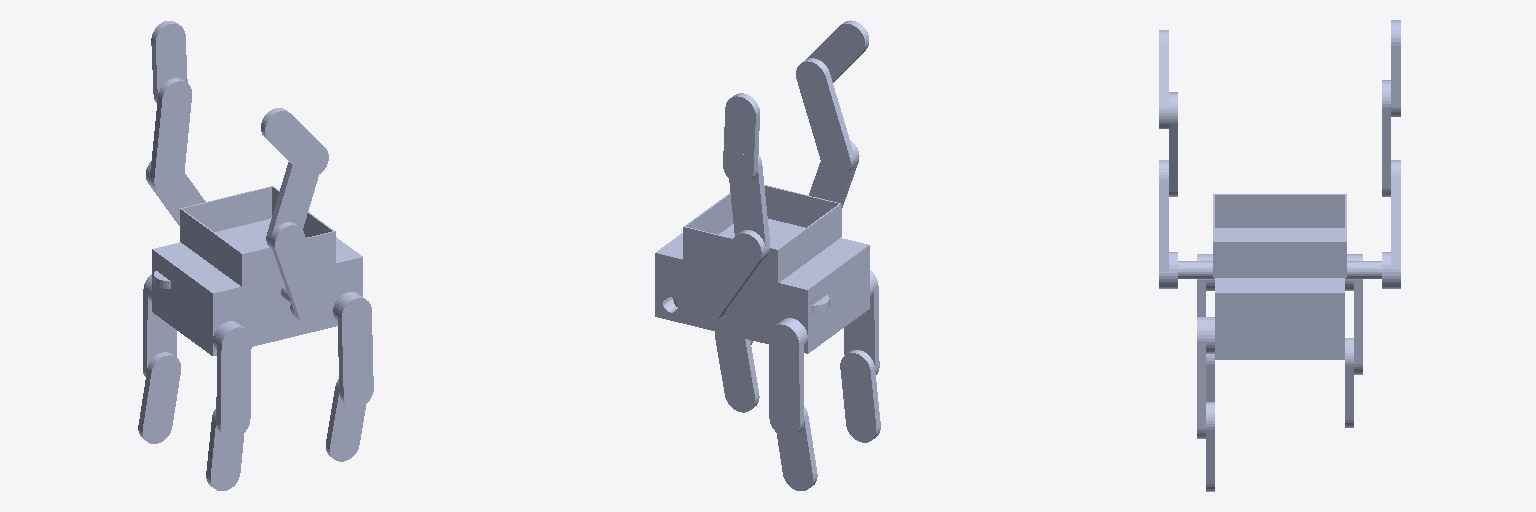
--- Render facts (derived) ---
Views: 3 orthographic renders of the robot side by side, from view 1: azimuth 30°, elevation 25°; view 2: azimuth 150°, elevation 25°; view 3: azimuth 270°, elevation 25°.
Robot: Project2_Assembly1 — 37 links, 36 joints (14 continuous, 22 fixed); root link dummy_link; default pose: all joints at 0.
Visible links, largest first — view 1: base_link, platform_link, right_arm_link5, right_arm_link3, left_front_hip_link1, left_rear_hip_link1, right_front_knee_link1, left_arm_link3, left_rear_knee_link1, left_front_knee_link1, left_arm_link1, left_arm_link5 (+12 smaller); view 2: base_link, platform_link, left_arm_link3, right_arm_link5, right_front_hip_link1, left_rear_knee_link1, left_front_knee_link1, right_arm_link3, left_arm_link5, right_arm_link1, right_front_knee_link1, left_front_hip_link1 (+9 smaller); view 3: platform_link, base_link, right_arm_link, left_arm_link, left_arm_link1, right_arm_link1, right_arm_link5, left_rear_hip_link1, left_arm_link5, right_front_hip_link1, right_arm_link3, left_arm_link3 (+3 smaller).
Boxes of the visible links, x1,y1,x2,y2 form: base_link: (152, 237, 362, 355); platform_link: (180, 186, 335, 286); right_arm_link5: (151, 21, 187, 97); right_arm_link3: (150, 97, 191, 178); left_front_hip_link1: (216, 341, 251, 425); left_rear_hip_link1: (337, 314, 373, 395); right_front_knee_link1: (138, 370, 180, 443); left_arm_link3: (267, 162, 318, 235); left_rear_knee_link1: (326, 387, 365, 461); left_front_knee_link1: (206, 418, 243, 490); left_arm_link1: (272, 237, 327, 317); left_arm_link5: (261, 108, 323, 172); base_link: (655, 233, 869, 353); platform_link: (683, 185, 841, 283); left_arm_link3: (798, 73, 853, 159); right_arm_link5: (723, 93, 759, 172); right_front_hip_link1: (769, 341, 803, 423); left_rear_knee_link1: (715, 339, 759, 412); left_front_knee_link1: (840, 369, 880, 442); right_arm_link3: (729, 164, 769, 247); left_arm_link5: (806, 20, 868, 82); right_arm_link1: (693, 239, 762, 316); right_front_knee_link1: (777, 416, 817, 490); left_front_hip_link1: (844, 286, 879, 368); platform_link: (1213, 194, 1346, 277); base_link: (1215, 278, 1344, 359); right_arm_link: (1345, 252, 1400, 288); left_arm_link: (1159, 252, 1214, 288); left_arm_link1: (1159, 180, 1168, 271); right_arm_link1: (1391, 176, 1400, 267); right_arm_link5: (1391, 20, 1400, 105); left_rear_hip_link1: (1197, 343, 1205, 427); left_arm_link5: (1159, 30, 1168, 105); right_front_hip_link1: (1354, 280, 1362, 363); right_arm_link3: (1382, 109, 1390, 187); left_arm_link3: (1169, 124, 1177, 190).
Size in the robot's own frame: 0.2734 by 0.3302 by 0.6388 metres.
36 mesh visuals loaded from 36 distinct referenced files (36 binary STL).

The robot description file, URDF, robot "Project2_Assembly1":
<?xml version="1.0" encoding="utf-8"?>
<!-- This URDF was automatically created by SolidWorks to URDF Exporter! Originally created by Stephen Brawner ([email redacted]) 
     Commit Version: 1.5.1-0-g916b5db  Build Version: 1.5.7152.31018
     For more information, please see http://wiki.ros.org/sw_urdf_exporter -->
<robot
  name="Project2_Assembly1">
  <link
    name="dummy_link">
  </link>
  <joint
    name="dummy_joint"
    type="fixed">
    <parent
      link="dummy_link" />
    <child
      link="base_link" />
  </joint>
  <link
    name="base_link">
    <inertial>
      <origin
        xyz="-0.175748920268411 0.165789407892482 -0.438271405453909"
        rpy="0 0 0" />
      <mass
        value="4.36700755653188" />
      <inertia
        ixx="0.030365726134738"
        ixy="0.00652149162392971"
        ixz="0.00297506888940774"
        iyy="0.0178204642076725"
        iyz="0.000563260489121419"
        izz="0.0284925976105569" />
    </inertial>
    <visual>
      <origin
        xyz="0 0 0"
        rpy="0 0 0" />
      <geometry>
        <mesh
          filename="package://Project2_Assembly/meshes/base_link.STL" />
      </geometry>
      <material
        name="">
        <color
          rgba="0.792156862745098 0.819607843137255 0.933333333333333 1" />
      </material>
    </visual>
    <collision>
      <origin
        xyz="0 0 0"
        rpy="0 0 0" />
      <geometry>
        <mesh
          filename="package://Project2_Assembly/meshes/base_link.STL" />
      </geometry>
    </collision>
  </link>
  <link
    name="platform_link">
    <inertial>
      <origin
        xyz="8.32667268468867E-17 -5.55111512312578E-17 0.00454448000326668"
        rpy="0 0 0" />
      <mass
        value="0.221453327467568" />
      <inertia
        ixx="0.000766812354982266"
        ixy="3.04931861011548E-20"
        ixz="-1.01813360259967E-18"
        iyy="0.00100112681592481"
        iyz="1.21972744404619E-18"
        izz="0.00157928891231331" />
    </inertial>
    <visual>
      <origin
        xyz="0 0 0"
        rpy="0 0 0" />
      <geometry>
        <mesh
          filename="package://Project2_Assembly/meshes/platform_link.STL" />
      </geometry>
      <material
        name="">
        <color
          rgba="0.792156862745098 0.819607843137255 0.933333333333333 1" />
      </material>
    </visual>
    <collision>
      <origin
        xyz="0 0 0"
        rpy="0 0 0" />
      <geometry>
        <mesh
          filename="package://Project2_Assembly/meshes/platform_link.STL" />
      </geometry>
    </collision>
  </link>
  <joint
    name="platform_joint"
    type="fixed">
    <origin
      xyz="0 0 0"
      rpy="0 0 1.5707963267949" />
    <parent
      link="base_link" />
    <child
      link="platform_link" />
    <axis
      xyz="0 0 0" />
  </joint>
  <link
    name="left_arm_link">
    <inertial>
      <origin
        xyz="5.55111512312578E-17 -1.11022302462516E-16 0.0269203616457798"
        rpy="0 0 0" />
      <mass
        value="0.0772222198144585" />
      <inertia
        ixx="4.25551704324029E-05"
        ixy="1.6940658945086E-21"
        ixz="-2.5410988417629E-20"
        iyy="4.25551704324029E-05"
        iyz="9.95396061921811E-20"
        izz="1.8682757750811E-05" />
    </inertial>
    <visual>
      <origin
        xyz="0 0 0"
        rpy="0 0 0" />
      <geometry>
        <mesh
          filename="package://Project2_Assembly/meshes/left_arm_link.STL" />
      </geometry>
      <material
        name="">
        <color
          rgba="0.792156862745098 0.819607843137255 0.933333333333333 1" />
      </material>
    </visual>
    <collision>
      <origin
        xyz="0 0 0"
        rpy="0 0 0" />
      <geometry>
        <mesh
          filename="package://Project2_Assembly/meshes/left_arm_link.STL" />
      </geometry>
    </collision>
  </link>
  <joint
    name="left_arm_joint"
    type="fixed">
    <origin
      xyz="0 -0.112779638354221 -0.0279400000000001"
      rpy="-1.57079632679486 1.49005517178331 -3.14159265358976" />
    <parent
      link="base_link" />
    <child
      link="left_arm_link" />
    <axis
      xyz="0 0 1" />
  </joint>
  <link
    name="left_arm_link1">
    <inertial>
      <origin
        xyz="0.0634999999999999 -7.76462227847219E-14 0.0040296383542201"
        rpy="0 0 0" />
      <mass
        value="0.0561945800618472" />
      <inertia
        ixx="1.42240417239566E-05"
        ixy="2.92460359654413E-17"
        ixz="-4.70103285726137E-20"
        iyy="3.81793048154064E-05"
        iyz="8.470329472543E-21"
        izz="5.08927425696672E-05" />
    </inertial>
    <visual>
      <origin
        xyz="0 0 0"
        rpy="0 0 0" />
      <geometry>
        <mesh
          filename="package://Project2_Assembly/meshes/left_arm_link1.STL" />
      </geometry>
      <material
        name="">
        <color
          rgba="0.792156862745098 0.819607843137255 0.933333333333333 1" />
      </material>
    </visual>
    <collision>
      <origin
        xyz="0 0 0"
        rpy="0 0 0" />
      <geometry>
        <mesh
          filename="package://Project2_Assembly/meshes/left_arm_link1.STL" />
      </geometry>
    </collision>
  </link>
  <joint
    name="left_arm_joint1"
    type="continuous">
    <origin
      xyz="0 0 0.0499999999999999"
      rpy="3.14159265358979 0 -2.73383166744153" />
    <parent
      link="left_arm_link" />
    <child
      link="left_arm_link1" />
    <axis
      xyz="0 0 1" />
  </joint>
  <link
    name="left_arm_link2">
    <inertial>
      <origin
        xyz="-1.52655665885959E-15 2.4980018054066E-16 -0.0103796383542208"
        rpy="0 0 0" />
      <mass
        value="0.0514814798763058" />
      <inertia
        ixx="1.10712638523325E-05"
        ixy="4.76456032830544E-22"
        ixz="-1.48230765769503E-20"
        iyy="1.10712638523325E-05"
        iyz="1.47171974585435E-20"
        izz="1.66068957784987E-05" />
    </inertial>
    <visual>
      <origin
        xyz="0 0 0"
        rpy="0 0 0" />
      <geometry>
        <mesh
          filename="package://Project2_Assembly/meshes/left_arm_link2.STL" />
      </geometry>
      <material
        name="">
        <color
          rgba="0.792156862745098 0.819607843137255 0.933333333333333 1" />
      </material>
    </visual>
    <collision>
      <origin
        xyz="0 0 0"
        rpy="0 0 0" />
      <geometry>
        <mesh
          filename="package://Project2_Assembly/meshes/left_arm_link2.STL" />
      </geometry>
    </collision>
  </link>
  <joint
    name="left_arm_joint2"
    type="fixed">
    <origin
      xyz="0.127 0 0"
      rpy="-3.14159265358979 0 0.141401224368281" />
    <parent
      link="left_arm_link1" />
    <child
      link="left_arm_link2" />
    <axis
      xyz="0 0 1" />
  </joint>
  <link
    name="left_arm_link3">
    <inertial>
      <origin
        xyz="0.0635000000000196 6.46704911844154E-15 0.00445605177225594"
        rpy="0 0 0" />
      <mass
        value="0.0561945800618472" />
      <inertia
        ixx="1.42240417239566E-05"
        ixy="4.89690922631392E-20"
        ixz="1.63053842346453E-19"
        iyy="3.81793048154064E-05"
        iyz="-3.87517573368842E-20"
        izz="5.08927425696671E-05" />
    </inertial>
    <visual>
      <origin
        xyz="0 0 0"
        rpy="0 0 0" />
      <geometry>
        <mesh
          filename="package://Project2_Assembly/meshes/left_arm_link3.STL" />
      </geometry>
      <material
        name="">
        <color
          rgba="0.792156862745098 0.819607843137255 0.933333333333333 1" />
      </material>
    </visual>
    <collision>
      <origin
        xyz="0 0 0"
        rpy="0 0 0" />
      <geometry>
        <mesh
          filename="package://Project2_Assembly/meshes/left_arm_link3.STL" />
      </geometry>
    </collision>
  </link>
  <joint
    name="left_arm_joint3"
    type="continuous">
    <origin
      xyz="0 0 -0.0122735865819643"
      rpy="3.14159265358979 0 -0.51044745877229" />
    <parent
      link="left_arm_link2" />
    <child
      link="left_arm_link3" />
    <axis
      xyz="0 0 1" />
  </joint>
  <link
    name="left_arm_link4">
    <inertial>
      <origin
        xyz="1.13797860024079E-14 1.6903145549918E-14 -0.00189394822774391"
        rpy="0 0 0" />
      <mass
        value="0.0514814798763058" />
      <inertia
        ixx="1.10712638523325E-05"
        ixy="2.11758236813575E-22"
        ixz="-3.3881317890172E-21"
        iyy="1.10712638523325E-05"
        iyz="1.05879118406788E-21"
        izz="1.66068957784987E-05" />
    </inertial>
    <visual>
      <origin
        xyz="0 0 0"
        rpy="0 0 0" />
      <geometry>
        <mesh
          filename="package://Project2_Assembly/meshes/left_arm_link4.STL" />
      </geometry>
      <material
        name="">
        <color
          rgba="0.792156862745098 0.819607843137255 0.933333333333333 1" />
      </material>
    </visual>
    <collision>
      <origin
        xyz="0 0 0"
        rpy="0 0 0" />
      <geometry>
        <mesh
          filename="package://Project2_Assembly/meshes/left_arm_link4.STL" />
      </geometry>
    </collision>
  </link>
  <joint
    name="left_arm_joint4"
    type="fixed">
    <origin
      xyz="0.12700000000002 0 0"
      rpy="0 0 2.25512297298652" />
    <parent
      link="left_arm_link3" />
    <child
      link="left_arm_link4" />
    <axis
      xyz="0 0 1" />
  </joint>
  <link
    name="left_arm_link5">
    <inertial>
      <origin
        xyz="-0.0643991133502865 -7.39686090156511E-14 0.00824394822774355"
        rpy="0 0 0" />
      <mass
        value="0.0573547240000001" />
      <inertia
        ixx="1.31052198647767E-05"
        ixy="-2.4546591294956E-17"
        ixz="1.35737029797502E-19"
        iyy="4.03881189381033E-05"
        iyz="4.2351647362715E-21"
        izz="5.19515482305533E-05" />
    </inertial>
    <visual>
      <origin
        xyz="0 0 0"
        rpy="0 0 0" />
      <geometry>
        <mesh
          filename="package://Project2_Assembly/meshes/left_arm_link5.STL" />
      </geometry>
      <material
        name="">
        <color
          rgba="0.792156862745098 0.819607843137255 0.933333333333333 1" />
      </material>
    </visual>
    <collision>
      <origin
        xyz="0 0 0"
        rpy="0 0 0" />
      <geometry>
        <mesh
          filename="package://Project2_Assembly/meshes/left_arm_link5.STL" />
      </geometry>
    </collision>
  </link>
  <joint
    name="left_arm_joint5"
    type="continuous">
    <origin
      xyz="0 0 0"
      rpy="3.14159265358979 0 -0.136200538453035" />
    <parent
      link="left_arm_link4" />
    <child
      link="left_arm_link5" />
    <axis
      xyz="0 0 1" />
  </joint>
  <link
    name="left_arm_dummy_link">
    <inertial>
      <origin
        xyz="0.0245008866497048 0.0254 0.00635000000000008"
        rpy="0 0 0" />
      <mass
        value="0.0573547240000001" />
      <inertia
        ixx="1.31052198647767E-05"
        ixy="5.11396141904784E-20"
        ixz="5.9292306307801E-20"
        iyy="4.03881189381033E-05"
        iyz="-1.77876918923403E-20"
        izz="5.19515482305533E-05" />
    </inertial>
    <visual>
      <origin
        xyz="0 0 0"
        rpy="0 0 0" />
      <geometry>
        <mesh
          filename="package://Project2_Assembly/meshes/left_arm_dummy_link.STL" />
      </geometry>
      <material
        name="">
        <color
          rgba="0.792156862745098 0.819607843137255 0.933333333333333 1" />
      </material>
    </visual>
    <collision>
      <origin
        xyz="0 0 0"
        rpy="0 0 0" />
      <geometry>
        <mesh
          filename="package://Project2_Assembly/meshes/left_arm_dummy_link.STL" />
      </geometry>
    </collision>
  </link>
  <joint
    name="left_arm_dummy_joint"
    type="fixed">
    <origin
      xyz="-0.0888999999999685 -0.0254000000000961 0.00189394822774358"
      rpy="0 0 0" />
    <parent
      link="left_arm_link5" />
    <child
      link="left_arm_dummy_link" />
    <axis
      xyz="0 0 0" />
  </joint>
  <link
    name="right_arm_link">
    <inertial>
      <origin
        xyz="5.55111512312578E-17 2.08166817117217E-15 0.0270180534713057"
        rpy="0 0 0" />
      <mass
        value="0.0772222198144587" />
      <inertia
        ixx="4.2555170432403E-05"
        ixy="-1.85288457211878E-22"
        ixz="6.22569216231911E-20"
        iyy="4.2555170432403E-05"
        iyz="-4.31457407507659E-20"
        izz="1.86827577508111E-05" />
    </inertial>
    <visual>
      <origin
        xyz="0 0 0"
        rpy="0 0 0" />
      <geometry>
        <mesh
          filename="package://Project2_Assembly/meshes/right_arm_link.STL" />
      </geometry>
      <material
        name="">
        <color
          rgba="0.792156862745098 0.819607843137255 0.933333333333333 1" />
      </material>
    </visual>
    <collision>
      <origin
        xyz="0 0 0"
        rpy="0 0 0" />
      <geometry>
        <mesh
          filename="package://Project2_Assembly/meshes/right_arm_link.STL" />
      </geometry>
    </collision>
  </link>
  <joint
    name="right_arm_joint"
    type="fixed">
    <origin
      xyz="0 0.112681946528693 -0.0279400000000012"
      rpy="1.57079632679492 1.49631531067135 -3.14159265358978" />
    <parent
      link="base_link" />
    <child
      link="right_arm_link" />
    <axis
      xyz="0 0 1" />
  </joint>
  <link
    name="right_arm_link1">
    <inertial>
      <origin
        xyz="0.0635000000000006 1.97064586870965E-15 0.00190156102875016"
        rpy="0 0 0" />
      <mass
        value="0.0561945800618471" />
      <inertia
        ixx="1.42240417239566E-05"
        ixy="2.35051642863068E-20"
        ixz="-3.0916702574782E-20"
        iyy="3.81793048154063E-05"
        iyz="-1.35525271560688E-20"
        izz="5.08927425696671E-05" />
    </inertial>
    <visual>
      <origin
        xyz="0 0 0"
        rpy="0 0 0" />
      <geometry>
        <mesh
          filename="package://Project2_Assembly/meshes/right_arm_link1.STL" />
      </geometry>
      <material
        name="">
        <color
          rgba="0.792156862745098 0.819607843137255 0.933333333333333 1" />
      </material>
    </visual>
    <collision>
      <origin
        xyz="0 0 0"
        rpy="0 0 0" />
      <geometry>
        <mesh
          filename="package://Project2_Assembly/meshes/right_arm_link1.STL" />
      </geometry>
    </collision>
  </link>
  <joint
    name="right_arm_joint1"
    type="continuous">
    <origin
      xyz="0 0 0.0441664924425549"
      rpy="0 0 2.49526943677936" />
    <parent
      link="right_arm_link" />
    <child
      link="right_arm_link1" />
    <axis
      xyz="0 0 1" />
  </joint>
  <link
    name="right_arm_link2">
    <inertial>
      <origin
        xyz="-2.77555756156289E-17 -2.77555756156289E-17 -0.00444843897124922"
        rpy="0 0 0" />
      <mass
        value="0.0514814798763058" />
      <inertia
        ixx="1.10712638523325E-05"
        ixy="-1.00150892664858E-21"
        ixz="-3.93158945146454E-21"
        iyy="1.10712638523325E-05"
        iyz="-5.0821976835258E-21"
        izz="1.66068957784987E-05" />
    </inertial>
    <visual>
      <origin
        xyz="0 0 0"
        rpy="0 0 0" />
      <geometry>
        <mesh
          filename="package://Project2_Assembly/meshes/right_arm_link2.STL" />
      </geometry>
      <material
        name="">
        <color
          rgba="0.792156862745098 0.819607843137255 0.933333333333333 1" />
      </material>
    </visual>
    <collision>
      <origin
        xyz="0 0 0"
        rpy="0 0 0" />
      <geometry>
        <mesh
          filename="package://Project2_Assembly/meshes/right_arm_link2.STL" />
      </geometry>
    </collision>
  </link>
  <joint
    name="right_arm_joint2"
    type="fixed">
    <origin
      xyz="0.127 0 0"
      rpy="0 0 2.2545" />
    <parent
      link="right_arm_link1" />
    <child
      link="right_arm_link2" />
    <axis
      xyz="0 0 1" />
  </joint>
  <link
    name="right_arm_link3">
    <inertial>
      <origin
        xyz="0.0635000000000153 1.44606548957427E-14 -0.0107984389712492"
        rpy="0 0 0" />
      <mass
        value="0.056194580061847" />
      <inertia
        ixx="1.42240417239566E-05"
        ixy="-1.42010367563104E-19"
        ixz="-3.81164826264435E-21"
        iyy="3.81793048154062E-05"
        iyz="-1.84494363823827E-20"
        izz="5.08927425696669E-05" />
    </inertial>
    <visual>
      <origin
        xyz="0 0 0"
        rpy="0 0 0" />
      <geometry>
        <mesh
          filename="package://Project2_Assembly/meshes/right_arm_link3.STL" />
      </geometry>
      <material
        name="">
        <color
          rgba="0.792156862745098 0.819607843137255 0.933333333333333 1" />
      </material>
    </visual>
    <collision>
      <origin
        xyz="0 0 0"
        rpy="0 0 0" />
      <geometry>
        <mesh
          filename="package://Project2_Assembly/meshes/right_arm_link3.STL" />
      </geometry>
    </collision>
  </link>
  <joint
    name="right_arm_joint3"
    type="continuous">
    <origin
      xyz="0 0 0"
      rpy="0 0 -1.57576453791578" />
    <parent
      link="right_arm_link2" />
    <child
      link="right_arm_link3" />
    <axis
      xyz="0 0 1" />
  </joint>
  <link
    name="right_arm_link4">
    <inertial>
      <origin
        xyz="-1.15740750317173E-14 -9.99200722162641E-15 0.00444843897124952"
        rpy="0 0 0" />
      <mass
        value="0.0514814798763058" />
      <inertia
        ixx="1.10712638523325E-05"
        ixy="-4.2351647362715E-22"
        ixz="2.96461531539005E-21"
        iyy="1.10712638523325E-05"
        iyz="-4.2351647362715E-21"
        izz="1.66068957784987E-05" />
    </inertial>
    <visual>
      <origin
        xyz="0 0 0"
        rpy="0 0 0" />
      <geometry>
        <mesh
          filename="package://Project2_Assembly/meshes/right_arm_link4.STL" />
      </geometry>
      <material
        name="">
        <color
          rgba="0.792156862745098 0.819607843137255 0.933333333333333 1" />
      </material>
    </visual>
    <collision>
      <origin
        xyz="0 0 0"
        rpy="0 0 0" />
      <geometry>
        <mesh
          filename="package://Project2_Assembly/meshes/right_arm_link4.STL" />
      </geometry>
    </collision>
  </link>
  <joint
    name="right_arm_joint4"
    type="fixed">
    <origin
      xyz="0.127000000000015 0 0"
      rpy="3.14159265358979 0 0.791256864324291" />
    <parent
      link="right_arm_link3" />
    <child
      link="right_arm_link4" />
    <axis
      xyz="0 0 1" />
  </joint>
  <link
    name="right_arm_link5">
    <inertial>
      <origin
        xyz="-0.0643991133502805 -1.00697228333502E-13 -0.00190156102875053"
        rpy="0 0 0" />
      <mass
        value="0.057354724" />
      <inertia
        ixx="1.31052198647767E-05"
        ixy="-4.07117651070511E-17"
        ixz="4.31986803099693E-20"
        iyy="4.03881189381032E-05"
        iyz="-1.05879118406788E-21"
        izz="5.19515482305532E-05" />
    </inertial>
    <visual>
      <origin
        xyz="0 0 0"
        rpy="0 0 0" />
      <geometry>
        <mesh
          filename="package://Project2_Assembly/meshes/right_arm_link5.STL" />
      </geometry>
      <material
        name="">
        <color
          rgba="0.792156862745098 0.819607843137255 0.933333333333333 1" />
      </material>
    </visual>
    <collision>
      <origin
        xyz="0 0 0"
        rpy="0 0 0" />
      <geometry>
        <mesh
          filename="package://Project2_Assembly/meshes/right_arm_link5.STL" />
      </geometry>
    </collision>
  </link>
  <joint
    name="right_arm_joint5"
    type="continuous">
    <origin
      xyz="0 0 0"
      rpy="0 0 -2.2001" />
    <parent
      link="right_arm_link4" />
    <child
      link="right_arm_link5" />
    <axis
      xyz="0 0 1" />
  </joint>
  <link
    name="right_arm_dummy_link">
    <inertial>
      <origin
        xyz="0.0245008866497046 0.0253999999999988 0.00634999999999999"
        rpy="0 0 0" />
      <mass
        value="0.057354724" />
      <inertia
        ixx="1.31052198647767E-05"
        ixy="8.99972506457694E-21"
        ixz="1.99052742604761E-20"
        iyy="4.03881189381032E-05"
        iyz="-8.89384594617015E-21"
        izz="5.19515482305532E-05" />
    </inertial>
    <visual>
      <origin
        xyz="0 0 0"
        rpy="0 0 0" />
      <geometry>
        <mesh
          filename="package://Project2_Assembly/meshes/right_arm_dummy_link.STL" />
      </geometry>
      <material
        name="">
        <color
          rgba="0.792156862745098 0.819607843137255 0.933333333333333 1" />
      </material>
    </visual>
    <collision>
      <origin
        xyz="0 0 0"
        rpy="0 0 0" />
      <geometry>
        <mesh
          filename="package://Project2_Assembly/meshes/right_arm_dummy_link.STL" />
      </geometry>
    </collision>
  </link>
  <joint
    name="right_arm_dummy_joint"
    type="fixed">
    <origin
      xyz="-0.0888999999999474 -0.0254000000001373 -0.00825156102875052"
      rpy="0 0 0" />
    <parent
      link="right_arm_link5" />
    <child
      link="right_arm_dummy_link" />
    <axis
      xyz="0 0 0" />
  </joint>
  <link
    name="left_rear_hip_link">
    <inertial>
      <origin
        xyz="0 -2.77555756156289E-17 1.11022302462516E-16"
        rpy="0 0 0" />
      <mass
        value="0.0772222198144587" />
      <inertia
        ixx="4.2555170432403E-05"
        ixy="8.470329472543E-22"
        ixz="2.03287907341032E-20"
        iyy="4.2555170432403E-05"
        iyz="-3.89635155736978E-20"
        izz="1.86827577508111E-05" />
    </inertial>
    <visual>
      <origin
        xyz="0 0 0"
        rpy="0 0 0" />
      <geometry>
        <mesh
          filename="package://Project2_Assembly/meshes/left_rear_hip_link.STL" />
      </geometry>
      <material
        name="">
        <color
          rgba="0.792156862745098 0.819607843137255 0.933333333333333 1" />
      </material>
    </visual>
    <collision>
      <origin
        xyz="0 0 0"
        rpy="0 0 0" />
      <geometry>
        <mesh
          filename="package://Project2_Assembly/meshes/left_rear_hip_link.STL" />
      </geometry>
    </collision>
  </link>
  <joint
    name="left_rear_hip_joint"
    type="fixed">
    <origin
      xyz="0.1016 -0.0889 -0.07874"
      rpy="1.5708 1.3266 0" />
    <parent
      link="base_link" />
    <child
      link="left_rear_hip_link" />
    <axis
      xyz="0 0 0" />
  </joint>
  <link
    name="left_rear_hip_link1">
    <inertial>
      <origin
        xyz="-0.0634999999999989 1.11022302462516E-15 -0.00348570857054564"
        rpy="0 0 0" />
      <mass
        value="0.0561945800618471" />
      <inertia
        ixx="1.42240417239566E-05"
        ixy="-3.08372932359769E-20"
        ixz="1.49501315190384E-19"
        iyy="3.81793048154063E-05"
        iyz="1.33407689192552E-20"
        izz="5.0892742569667E-05" />
    </inertial>
    <visual>
      <origin
        xyz="0 0 0"
        rpy="0 0 0" />
      <geometry>
        <mesh
          filename="package://Project2_Assembly/meshes/left_rear_hip_link1.STL" />
      </geometry>
      <material
        name="">
        <color
          rgba="0.792156862745098 0.819607843137255 0.933333333333333 1" />
      </material>
    </visual>
    <collision>
      <origin
        xyz="0 0 0"
        rpy="0 0 0" />
      <geometry>
        <mesh
          filename="package://Project2_Assembly/meshes/left_rear_hip_link1.STL" />
      </geometry>
    </collision>
  </link>
  <joint
    name="left_rear_hip_joint1"
    type="continuous">
    <origin
      xyz="0 0 0.0155642914294541"
      rpy="-3.14159265358979 0 2.9227694943902" />
    <parent
      link="left_rear_hip_link" />
    <child
      link="left_rear_hip_link1" />
    <axis
      xyz="0 0 1" />
  </joint>
  <link
    name="left_rear_knee_link">
    <inertial>
      <origin
        xyz="5.55111512312578E-17 -1.11022302462516E-16 -0.00286429142945449"
        rpy="0 0 0" />
      <mass
        value="0.0514814798763059" />
      <inertia
        ixx="1.10712638523325E-05"
        ixy="2.11758236813575E-22"
        ixz="-3.0916702574782E-20"
        iyy="1.10712638523325E-05"
        iyz="-1.94817577868489E-20"
        izz="1.66068957784988E-05" />
    </inertial>
    <visual>
      <origin
        xyz="0 0 0"
        rpy="0 0 0" />
      <geometry>
        <mesh
          filename="package://Project2_Assembly/meshes/left_rear_knee_link.STL" />
      </geometry>
      <material
        name="">
        <color
          rgba="0.792156862745098 0.819607843137255 0.933333333333333 1" />
      </material>
    </visual>
    <collision>
      <origin
        xyz="0 0 0"
        rpy="0 0 0" />
      <geometry>
        <mesh
          filename="package://Project2_Assembly/meshes/left_rear_knee_link.STL" />
      </geometry>
    </collision>
  </link>
  <joint
    name="left_rear_knee_joint"
    type="fixed">
    <origin
      xyz="-0.127 0 0"
      rpy="3.14159265358979 0 1.22925344599165" />
    <parent
      link="left_rear_hip_link1" />
    <child
      link="left_rear_knee_link" />
    <axis
      xyz="0 0 1" />
  </joint>
  <link
    name="left_rear_knee_link1">
    <inertial>
      <origin
        xyz="-0.0643991133502946 -3.27515792264421E-15 0.00921429142945451"
        rpy="0 0 0" />
      <mass
        value="0.0573547240000001" />
      <inertia
        ixx="1.31052198647767E-05"
        ixy="-1.33614153473446E-18"
        ixz="-6.01393392550553E-20"
        iyy="4.03881189381034E-05"
        iyz="-6.35274710440725E-22"
        izz="5.19515482305534E-05" />
    </inertial>
    <visual>
      <origin
        xyz="0 0 0"
        rpy="0 0 0" />
      <geometry>
        <mesh
          filename="package://Project2_Assembly/meshes/left_rear_knee_link1.STL" />
      </geometry>
      <material
        name="">
        <color
          rgba="0.792156862745098 0.819607843137255 0.933333333333333 1" />
      </material>
    </visual>
    <collision>
      <origin
        xyz="0 0 0"
        rpy="0 0 0" />
      <geometry>
        <mesh
          filename="package://Project2_Assembly/meshes/left_rear_knee_link1.STL" />
      </geometry>
    </collision>
  </link>
  <joint
    name="left_rear_knee_joint1"
    type="continuous">
    <origin
      xyz="0 0 0"
      rpy="3.14159265358979 0 1.02130634175399" />
    <parent
      link="left_rear_knee_link" />
    <child
      link="left_rear_knee_link1" />
    <axis
      xyz="0 0 1" />
  </joint>
  <link
    name="left_rear_dummy_link">
    <inertial>
      <origin
        xyz="0.0245008866497048 0.0254 0.00635000000000019"
        rpy="0 0 0" />
      <mass
        value="0.0573547240000001" />
      <inertia
        ixx="1.31052198647767E-05"
        ixy="2.45110159111713E-20"
        ixz="-5.9292306307801E-20"
        iyy="4.03881189381034E-05"
        iyz="2.85873619698326E-21"
        izz="5.19515482305534E-05" />
    </inertial>
    <visual>
      <origin
        xyz="0 0 0"
        rpy="0 0 0" />
      <geometry>
        <mesh
          filename="package://Project2_Assembly/meshes/left_rear_dummy_link.STL" />
      </geometry>
      <material
        name="">
        <color
          rgba="0.792156862745098 0.819607843137255 0.933333333333333 1" />
      </material>
    </visual>
    <collision>
      <origin
        xyz="0 0 0"
        rpy="0 0 0" />
      <geometry>
        <mesh
          filename="package://Project2_Assembly/meshes/left_rear_dummy_link.STL" />
      </geometry>
    </collision>
  </link>
  <joint
    name="left_rear_dummy_joint"
    type="fixed">
    <origin
      xyz="-0.0888999999999984 -0.0254000000000045 0.00286429142945438"
      rpy="0 0 0" />
    <parent
      link="left_rear_knee_link1" />
    <child
      link="left_rear_dummy_link" />
    <axis
      xyz="0 0 0" />
  </joint>
  <link
    name="left_front_hip_link">
    <inertial>
      <origin
        xyz="-5.55111512312578E-17 0 -1.11022302462516E-16"
        rpy="0 0 0" />
      <mass
        value="0.0772222198144586" />
      <inertia
        ixx="4.25551704324029E-05"
        ixy="-2.91167575618666E-21"
        ixz="7.83505476210228E-20"
        iyy="4.25551704324029E-05"
        iyz="-1.84759061619844E-20"
        izz="1.8682757750811E-05" />
    </inertial>
    <visual>
      <origin
        xyz="0 0 0"
        rpy="0 0 0" />
      <geometry>
        <mesh
          filename="package://Project2_Assembly/meshes/left_front_hip_link.STL" />
      </geometry>
      <material
        name="">
        <color
          rgba="0.792156862745098 0.819607843137255 0.933333333333333 1" />
      </material>
    </visual>
    <collision>
      <origin
        xyz="0 0 0"
        rpy="0 0 0" />
      <geometry>
        <mesh
          filename="package://Project2_Assembly/meshes/left_front_hip_link.STL" />
      </geometry>
    </collision>
  </link>
  <joint
    name="left_front_hip_joint"
    type="fixed">
    <origin
      xyz="-0.1016 -0.0889 -0.07874"
      rpy="-1.5708 1.4089 3.1416" />
    <parent
      link="base_link" />
    <child
      link="left_front_hip_link" />
    <axis
      xyz="0 0 0" />
  </joint>
  <link
    name="left_front_hip_link1">
    <inertial>
      <origin
        xyz="-0.0634999999999989 3.28903571045203E-15 -0.00413058115419834"
        rpy="0 0 0" />
      <mass
        value="0.0561945800618472" />
      <inertia
        ixx="1.42240417239566E-05"
        ixy="1.79729803495522E-20"
        ixz="3.64224167319349E-20"
        iyy="3.81793048154064E-05"
        iyz="-4.80691197566815E-20"
        izz="5.08927425696672E-05" />
    </inertial>
    <visual>
      <origin
        xyz="0 0 0"
        rpy="0 0 0" />
      <geometry>
        <mesh
          filename="package://Project2_Assembly/meshes/left_front_hip_link1.STL" />
      </geometry>
      <material
        name="">
        <color
          rgba="0.792156862745098 0.819607843137255 0.933333333333333 1" />
      </material>
    </visual>
    <collision>
      <origin
        xyz="0 0 0"
        rpy="0 0 0" />
      <geometry>
        <mesh
          filename="package://Project2_Assembly/meshes/left_front_hip_link1.STL" />
      </geometry>
    </collision>
  </link>
  <joint
    name="left_front_hip_joint1"
    type="continuous">
    <origin
      xyz="0 0 0.0149194188458016"
      rpy="3.14159265358979 0 -2.99385816079686" />
    <parent
      link="left_front_hip_link" />
    <child
      link="left_front_hip_link1" />
    <axis
      xyz="0 0 1" />
  </joint>
  <link
    name="left_front_knee_link">
    <inertial>
      <origin
        xyz="-5.55111512312578E-17 0 -0.00221941884580201"
        rpy="0 0 0" />
      <mass
        value="0.0514814798763057" />
      <inertia
        ixx="1.10712638523324E-05"
        ixy="2.11758236813575E-22"
        ixz="1.03761536038652E-20"
        iyy="1.10712638523324E-05"
        iyz="4.02340649945793E-21"
        izz="1.66068957784987E-05" />
    </inertial>
    <visual>
      <origin
        xyz="0 0 0"
        rpy="0 0 0" />
      <geometry>
        <mesh
          filename="package://Project2_Assembly/meshes/left_front_knee_link.STL" />
      </geometry>
      <material
        name="">
        <color
          rgba="0.792156862745098 0.819607843137255 0.933333333333333 1" />
      </material>
    </visual>
    <collision>
      <origin
        xyz="0 0 0"
        rpy="0 0 0" />
      <geometry>
        <mesh
          filename="package://Project2_Assembly/meshes/left_front_knee_link.STL" />
      </geometry>
    </collision>
  </link>
  <joint
    name="left_front_knee_joint"
    type="fixed">
    <origin
      xyz="-0.127000000000001 0 0"
      rpy="3.14159265358979 0 2.71763994433786" />
    <parent
      link="left_front_hip_link1" />
    <child
      link="left_front_knee_link" />
    <axis
      xyz="0 0 1" />
  </joint>
  <link
    name="left_front_knee_link1">
    <inertial>
      <origin
        xyz="-0.0643991133502949 -9.71445146547012E-16 0.00856941884580165"
        rpy="0 0 0" />
      <mass
        value="0.057354724" />
      <inertia
        ixx="1.31052198647767E-05"
        ixy="-9.67440665939969E-19"
        ixz="-5.84452733605467E-20"
        iyy="4.03881189381033E-05"
        iyz="4.02340649945793E-21"
        izz="5.19515482305533E-05" />
    </inertial>
    <visual>
      <origin
        xyz="0 0 0"
        rpy="0 0 0" />
      <geometry>
        <mesh
          filename="package://Project2_Assembly/meshes/left_front_knee_link1.STL" />
      </geometry>
      <material
        name="">
        <color
          rgba="0.792156862745098 0.819607843137255 0.933333333333333 1" />
      </material>
    </visual>
    <collision>
      <origin
        xyz="0 0 0"
        rpy="0 0 0" />
      <geometry>
        <mesh
          filename="package://Project2_Assembly/meshes/left_front_knee_link1.STL" />
      </geometry>
    </collision>
  </link>
  <joint
    name="left_front_knee_joint1"
    type="continuous">
    <origin
      xyz="0 0 0"
      rpy="-3.14159265358979 0 2.62289732606784" />
    <parent
      link="left_front_knee_link" />
    <child
      link="left_front_knee_link1" />
    <axis
      xyz="0 0 1" />
  </joint>
  <link
    name="left_front_dummy_link">
    <inertial>
      <origin
        xyz="0.0245008866497048 0.0254000000000001 0.00634999999999991"
        rpy="0 0 0" />
      <mass
        value="0.057354724" />
      <inertia
        ixx="1.31052198647767E-05"
        ixy="-1.02117928161509E-19"
        ixz="8.42797782518029E-20"
        iyy="4.03881189381033E-05"
        iyz="4.74073752666391E-20"
        izz="5.19515482305533E-05" />
    </inertial>
    <visual>
      <origin
        xyz="0 0 0"
        rpy="0 0 0" />
      <geometry>
        <mesh
          filename="package://Project2_Assembly/meshes/left_front_dummy_link.STL" />
      </geometry>
      <material
        name="">
        <color
          rgba="0.792156862745098 0.819607843137255 0.933333333333333 1" />
      </material>
    </visual>
    <collision>
      <origin
        xyz="0 0 0"
        rpy="0 0 0" />
      <geometry>
        <mesh
          filename="package://Project2_Assembly/meshes/left_front_dummy_link.STL" />
      </geometry>
    </collision>
  </link>
  <joint
    name="left_front_dummy_joint"
    type="fixed">
    <origin
      xyz="-0.0888999999999987 -0.0254000000000019 0.00221941884580146"
      rpy="0 0 0" />
    <parent
      link="left_front_knee_link1" />
    <child
      link="left_front_dummy_link" />
    <axis
      xyz="0 0 0" />
  </joint>
  <link
    name="right_front_hip_link">
    <inertial>
      <origin
        xyz="1.38777878078145E-17 5.55111512312578E-17 0.0271859005085105"
        rpy="0 0 0" />
      <mass
        value="0.0772222198144587" />
      <inertia
        ixx="4.25551704324029E-05"
        ixy="-2.38228016415272E-22"
        ixz="-7.70270586409379E-21"
        iyy="4.25551704324029E-05"
        iyz="-4.06575814682064E-20"
        izz="1.86827577508111E-05" />
    </inertial>
    <visual>
      <origin
        xyz="0 0 0"
        rpy="0 0 0" />
      <geometry>
        <mesh
          filename="package://Project2_Assembly/meshes/right_front_hip_link.STL" />
      </geometry>
      <material
        name="">
        <color
          rgba="0.792156862745098 0.819607843137255 0.933333333333333 1" />
      </material>
    </visual>
    <collision>
      <origin
        xyz="0 0 0"
        rpy="0 0 0" />
      <geometry>
        <mesh
          filename="package://Project2_Assembly/meshes/right_front_hip_link.STL" />
      </geometry>
    </collision>
  </link>
  <joint
    name="right_front_hip_joint"
    type="fixed">
    <origin
      xyz="-0.1016 0.061714 -0.07874"
      rpy="1.5708 -0.063777 3.1416" />
    <parent
      link="base_link" />
    <child
      link="right_front_hip_link" />
    <axis
      xyz="0 0 1" />
  </joint>
  <link
    name="right_front_hip_link1">
    <inertial>
      <origin
        xyz="0.0635000000000002 -1.61759494687885E-13 0.0040748192125461"
        rpy="0 0 0" />
      <mass
        value="0.056194580061847" />
      <inertia
        ixx="1.42240417239566E-05"
        ixy="6.100495398759E-17"
        ixz="5.46336250979024E-20"
        iyy="3.81793048154062E-05"
        iyz="-1.42936809849163E-20"
        izz="5.08927425696669E-05" />
    </inertial>
    <visual>
      <origin
        xyz="0 0 0"
        rpy="0 0 0" />
      <geometry>
        <mesh
          filename="package://Project2_Assembly/meshes/right_front_hip_link1.STL" />
      </geometry>
      <material
        name="">
        <color
          rgba="0.792156862745098 0.819607843137255 0.933333333333333 1" />
      </material>
    </visual>
    <collision>
      <origin
        xyz="0 0 0"
        rpy="0 0 0" />
      <geometry>
        <mesh
          filename="package://Project2_Assembly/meshes/right_front_hip_link1.STL" />
      </geometry>
    </collision>
  </link>
  <joint
    name="right_front_hip_joint1"
    type="continuous">
    <origin
      xyz="0 0 0.0421610812959619"
      rpy="0 0 -1.62386123679691" />
    <parent
      link="right_front_hip_link" />
    <child
      link="right_front_hip_link1" />
    <axis
      xyz="0 0 1" />
  </joint>
  <link
    name="right_front_knee_link">
    <inertial>
      <origin
        xyz="0 0 -0.00227518078745398"
        rpy="0 0 0" />
      <mass
        value="0.0514814798763057" />
      <inertia
        ixx="1.10712638523325E-05"
        ixy="-4.2351647362715E-22"
        ixz="1.65171424714589E-20"
        iyy="1.10712638523324E-05"
        iyz="8.68208770935658E-21"
        izz="1.66068957784987E-05" />
    </inertial>
    <visual>
      <origin
        xyz="0 0 0"
        rpy="0 0 0" />
      <geometry>
        <mesh
          filename="package://Project2_Assembly/meshes/right_front_knee_link.STL" />
      </geometry>
      <material
        name="">
        <color
          rgba="0.792156862745098 0.819607843137255 0.933333333333333 1" />
      </material>
    </visual>
    <collision>
      <origin
        xyz="0 0 0"
        rpy="0 0 0" />
      <geometry>
        <mesh
          filename="package://Project2_Assembly/meshes/right_front_knee_link.STL" />
      </geometry>
    </collision>
  </link>
  <joint
    name="right_front_knee_joint"
    type="fixed">
    <origin
      xyz="0.127 0 0"
      rpy="0 0 -2.53988297981886" />
    <parent
      link="right_front_hip_link1" />
    <child
      link="right_front_knee_link" />
    <axis
      xyz="0 0 1" />
  </joint>
  <link
    name="right_front_knee_link1">
    <inertial>
      <origin
        xyz="-0.0643991133502952 -1.66533453693773E-16 -0.00862518078745406"
        rpy="0 0 0" />
      <mass
        value="0.0573547240000001" />
      <inertia
        ixx="1.31052198647767E-05"
        ixy="-5.85776222585552E-20"
        ixz="-2.45639554703747E-20"
        iyy="4.03881189381034E-05"
        iyz="2.00111533788828E-20"
        izz="5.19515482305535E-05" />
    </inertial>
    <visual>
      <origin
        xyz="0 0 0"
        rpy="0 0 0" />
      <geometry>
        <mesh
          filename="package://Project2_Assembly/meshes/right_front_knee_link1.STL" />
      </geometry>
      <material
        name="">
        <color
          rgba="0.792156862745098 0.819607843137255 0.933333333333333 1" />
      </material>
    </visual>
    <collision>
      <origin
        xyz="0 0 0"
        rpy="0 0 0" />
      <geometry>
        <mesh
          filename="package://Project2_Assembly/meshes/right_front_knee_link1.STL" />
      </geometry>
    </collision>
  </link>
  <joint
    name="right_front_knee_joint1"
    type="continuous">
    <origin
      xyz="0 0 0"
      rpy="0 0 -0.444918552874764" />
    <parent
      link="right_front_knee_link" />
    <child
      link="right_front_knee_link1" />
    <axis
      xyz="0 0 1" />
  </joint>
  <link
    name="right_front_dummy_link">
    <inertial>
      <origin
        xyz="0.0245008866497047 0.0254000000000001 0.00635000000000002"
        rpy="0 0 0" />
      <mass
        value="0.0573547240000001" />
      <inertia
        ixx="1.31052198647767E-05"
        ixy="-5.12851979782877E-20"
        ixz="-2.58345048912562E-20"
        iyy="4.03881189381034E-05"
        iyz="1.83170874843742E-20"
        izz="5.19515482305534E-05" />
    </inertial>
    <visual>
      <origin
        xyz="0 0 0"
        rpy="0 0 0" />
      <geometry>
        <mesh
          filename="package://Project2_Assembly/meshes/right_front_dummy_link.STL" />
      </geometry>
      <material
        name="">
        <color
          rgba="0.792156862745098 0.819607843137255 0.933333333333333 1" />
      </material>
    </visual>
    <collision>
      <origin
        xyz="0 0 0"
        rpy="0 0 0" />
      <geometry>
        <mesh
          filename="package://Project2_Assembly/meshes/right_front_dummy_link.STL" />
      </geometry>
    </collision>
  </link>
  <joint
    name="right_front_dummy_joint"
    type="fixed">
    <origin
      xyz="-0.0888999999999999 -0.0254000000000002 -0.014975180787454"
      rpy="0 0 0" />
    <parent
      link="right_front_knee_link1" />
    <child
      link="right_front_dummy_link" />
    <axis
      xyz="0 0 0" />
  </joint>
  <link
    name="right_rear_hip_link">
    <inertial>
      <origin
        xyz="-5.55111512312578E-17 -9.71445146547012E-17 0.03383948887112"
        rpy="0 0 0" />
      <mass
        value="0.0772222198144586" />
      <inertia
        ixx="4.25551704324029E-05"
        ixy="-4.2351647362715E-22"
        ixz="2.15993401549847E-20"
        iyy="4.25551704324029E-05"
        iyz="7.45388993583784E-20"
        izz="1.86827577508111E-05" />
    </inertial>
    <visual>
      <origin
        xyz="0 0 0"
        rpy="0 0 0" />
      <geometry>
        <mesh
          filename="package://Project2_Assembly/meshes/right_rear_hip_link.STL" />
      </geometry>
      <material
        name="">
        <color
          rgba="0.792156862745098 0.819607843137255 0.933333333333333 1" />
      </material>
    </visual>
    <collision>
      <origin
        xyz="0 0 0"
        rpy="0 0 0" />
      <geometry>
        <mesh
          filename="package://Project2_Assembly/meshes/right_rear_hip_link.STL" />
      </geometry>
    </collision>
  </link>
  <joint
    name="right_rear_hip_joint"
    type="fixed">
    <origin
      xyz="0.101600000000001 0.0550605111288811 -0.0787400000000002"
      rpy="0 0 0" />
    <parent
      link="base_link" />
    <child
      link="right_rear_hip_link" />
    <axis
      xyz="0 0 1" />
  </joint>
  <link
    name="right_rear_hip_link1">
    <inertial>
      <origin
        xyz="-0.0635000000001462 -1.87239113103033E-13 0.0028894888711179"
        rpy="0 0 0" />
      <mass
        value="0.0561945800618472" />
      <inertia
        ixx="1.42240417239566E-05"
        ixy="2.96461531539005E-20"
        ixz="1.10537799616686E-19"
        iyy="3.81793048154063E-05"
        iyz="-3.3881317890172E-21"
        izz="5.0892742569667E-05" />
    </inertial>
    <visual>
      <origin
        xyz="0 0 0"
        rpy="0 0 0" />
      <geometry>
        <mesh
          filename="package://Project2_Assembly/meshes/right_rear_hip_link1.STL" />
      </geometry>
      <material
        name="">
        <color
          rgba="0.792156862745098 0.819607843137255 0.933333333333333 1" />
      </material>
    </visual>
    <collision>
      <origin
        xyz="0 0 0"
        rpy="0 0 0" />
      <geometry>
        <mesh
          filename="package://Project2_Assembly/meshes/right_rear_hip_link1.STL" />
      </geometry>
    </collision>
  </link>
  <joint
    name="right_rear_hip_joint1"
    type="continuous">
    <origin
      xyz="0 0 0.05"
      rpy="0 0 0" />
    <parent
      link="right_rear_hip_link" />
    <child
      link="right_rear_hip_link1" />
    <axis
      xyz="0 0 1" />
  </joint>
  <link
    name="right_rear_knee_link">
    <inertial>
      <origin
        xyz="8.22120149734928E-14 1.21069820835373E-13 -0.00346051112888224"
        rpy="0 0 0" />
      <mass
        value="0.0514814798763058" />
      <inertia
        ixx="1.10712638523325E-05"
        ixy="-2.64697796016969E-21"
        ixz="5.0821976835258E-21"
        iyy="1.10712638523325E-05"
        iyz="-3.3881317890172E-21"
        izz="1.66068957784987E-05" />
    </inertial>
    <visual>
      <origin
        xyz="0 0 0"
        rpy="0 0 0" />
      <geometry>
        <mesh
          filename="package://Project2_Assembly/meshes/right_rear_knee_link.STL" />
      </geometry>
      <material
        name="">
        <color
          rgba="0.792156862745098 0.819607843137255 0.933333333333333 1" />
      </material>
    </visual>
    <collision>
      <origin
        xyz="0 0 0"
        rpy="0 0 0" />
      <geometry>
        <mesh
          filename="package://Project2_Assembly/meshes/right_rear_knee_link.STL" />
      </geometry>
    </collision>
  </link>
  <joint
    name="right_rear_knee_joint"
    type="fixed">
    <origin
      xyz="-0.127000000000146 0 0"
      rpy="0 0 0" />
    <parent
      link="right_rear_hip_link1" />
    <child
      link="right_rear_knee_link" />
    <axis
      xyz="0 0 1" />
  </joint>
  <link
    name="right_rear_knee_link1">
    <inertial>
      <origin
        xyz="-0.0643991133501527 -3.34177130412172E-14 -0.00981051112888243"
        rpy="0 0 0" />
      <mass
        value="0.0573547239999999" />
      <inertia
        ixx="1.31052198647766E-05"
        ixy="6.35704844359253E-20"
        ixz="-5.59041745187838E-20"
        iyy="4.03881189381032E-05"
        iyz="7.50418251708107E-21"
        izz="5.19515482305532E-05" />
    </inertial>
    <visual>
      <origin
        xyz="0 0 0"
        rpy="0 0 0" />
      <geometry>
        <mesh
          filename="package://Project2_Assembly/meshes/right_rear_knee_link1.STL" />
      </geometry>
      <material
        name="">
        <color
          rgba="0.792156862745098 0.819607843137255 0.933333333333333 1" />
      </material>
    </visual>
    <collision>
      <origin
        xyz="0 0 0"
        rpy="0 0 0" />
      <geometry>
        <mesh
          filename="package://Project2_Assembly/meshes/right_rear_knee_link1.STL" />
      </geometry>
    </collision>
  </link>
  <joint
    name="right_rear_knee_joint1"
    type="continuous">
    <origin
      xyz="0 0 0"
      rpy="0 0 0" />
    <parent
      link="right_rear_knee_link" />
    <child
      link="right_rear_knee_link1" />
    <axis
      xyz="0 0 1" />
  </joint>
  <link
    name="right_rear_dummy_link">
    <inertial>
      <origin
        xyz="0.0245008866497048 0.0254 0.00634999999999997"
        rpy="0 0 0" />
      <mass
        value="0.0573547239999999" />
      <inertia
        ixx="1.31052198647766E-05"
        ixy="6.80140986865601E-20"
        ixz="-5.03984603616309E-20"
        iyy="4.03881189381032E-05"
        iyz="4.12928561786471E-21"
        izz="5.19515482305532E-05" />
    </inertial>
    <visual>
      <origin
        xyz="0 0 0"
        rpy="0 0 0" />
      <geometry>
        <mesh
          filename="package://Project2_Assembly/meshes/right_rear_dummy_link.STL" />
      </geometry>
      <material
        name="">
        <color
          rgba="0.792156862745098 0.819607843137255 0.933333333333333 1" />
      </material>
    </visual>
    <collision>
      <origin
        xyz="0 0 0"
        rpy="0 0 0" />
      <geometry>
        <mesh
          filename="package://Project2_Assembly/meshes/right_rear_dummy_link.STL" />
      </geometry>
    </collision>
  </link>
  <joint
    name="right_rear_dummy_joint"
    type="fixed">
    <origin
      xyz="-0.0888999999998575 -0.0254000000000334 -0.0161605111288824"
      rpy="0 0 0" />
    <parent
      link="right_rear_knee_link1" />
    <child
      link="right_rear_dummy_link" />
    <axis
      xyz="0 0 0" />
  </joint>

  <transmission name="right_front_hip_trans">
    <type>transmission_interface/SimpleTransmission</type>
    <joint name="right_front_hip_joint1">
      <hardwareInterface>hardware_interface/EffortJointInterface</hardwareInterface>
    </joint>
    <actuator name="foo_motor1">
      <mechanicalReduction>1</mechanicalReduction>
      <hardwareInterface>hardware_interface/EffortJointInterface</hardwareInterface>
    </actuator>
  </transmission>

  <transmission name="right_front_knee_trans">
    <type>transmission_interface/SimpleTransmission</type>
    <joint name="right_front_knee_joint1">
      <hardwareInterface>hardware_interface/EffortJointInterface</hardwareInterface>
    </joint>
    <actuator name="foo_motor2">
      <mechanicalReduction>1</mechanicalReduction>
      <hardwareInterface>hardware_interface/EffortJointInterface</hardwareInterface>
    </actuator>
  </transmission>

  <transmission name="right_rear_hip_trans">
    <type>transmission_interface/SimpleTransmission</type>
    <joint name="right_rear_hip_joint1">
      <hardwareInterface>hardware_interface/EffortJointInterface</hardwareInterface>
    </joint>
    <actuator name="foo_motor3">
      <mechanicalReduction>1</mechanicalReduction>
      <hardwareInterface>hardware_interface/EffortJointInterface</hardwareInterface>
    </actuator>
  </transmission>

  <transmission name="right_rear_knee_trans">
    <type>transmission_interface/SimpleTransmission</type>
    <joint name="right_rear_knee_joint1">
      <hardwareInterface>hardware_interface/EffortJointInterface</hardwareInterface>
    </joint>
    <actuator name="foo_motor4">
      <mechanicalReduction>1</mechanicalReduction>
      <hardwareInterface>hardware_interface/EffortJointInterface</hardwareInterface>
    </actuator>
  </transmission>


  <transmission name="left_front_hip_trans">
    <type>transmission_interface/SimpleTransmission</type>
    <joint name="left_front_hip_joint1">
      <hardwareInterface>hardware_interface/EffortJointInterface</hardwareInterface>
    </joint>
    <actuator name="foo_motor5">
      <mechanicalReduction>1</mechanicalReduction>
      <hardwareInterface>hardware_interface/EffortJointInterface</hardwareInterface>
    </actuator>
  </transmission>


  <transmission name="left_front_knee_trans">
    <type>transmission_interface/SimpleTransmission</type>
    <joint name="left_front_knee_joint1">
      <hardwareInterface>hardware_interface/EffortJointInterface</hardwareInterface>
    </joint>
    <actuator name="foo_motor6">
      <mechanicalReduction>1</mechanicalReduction>
      <hardwareInterface>hardware_interface/EffortJointInterface</hardwareInterface>
    </actuator>
  </transmission>

  <transmission name="left_rear_hip_trans">
    <type>transmission_interface/SimpleTransmission</type>
    <joint name="left_rear_hip_joint1">
      <hardwareInterface>hardware_interface/EffortJointInterface</hardwareInterface>
    </joint>
    <actuator name="foo_motor7">
      <mechanicalReduction>1</mechanicalReduction>
      <hardwareInterface>hardware_interface/EffortJointInterface</hardwareInterface>
    </actuator>
  </transmission>
  
  <transmission name="left_rear_knee_trans">
    <type>transmission_interface/SimpleTransmission</type>
    <joint name="left_rear_knee_joint1">
      <hardwareInterface>hardware_interface/EffortJointInterface</hardwareInterface>
    </joint>
    <actuator name="foo_motor8">
      <mechanicalReduction>1</mechanicalReduction>
      <hardwareInterface>hardware_interface/EffortJointInterface</hardwareInterface>
    </actuator>
  </transmission>
<!--
  <transmission name="right_rear_dummy_trans">
    <type>transmission_interface/SimpleTransmission</type>
    <joint name="right_rear_dummy_joint">
      <hardwareInterface>hardware_interface/EffortJointInterface</hardwareInterface>
    </joint>
    <actuator name="foo_motor15">
      <mechanicalReduction>1</mechanicalReduction>
      <hardwareInterface>hardware_interface/EffortJointInterface</hardwareInterface>
    </actuator>
  </transmission>
-->
  <transmission name="left_arm_trans1">
    <type>transmission_interface/SimpleTransmission</type>
    <joint name="left_arm_joint1">
      <hardwareInterface>hardware_interface/EffortJointInterface</hardwareInterface>
    </joint>
    <actuator name="foo_motor9">
      <mechanicalReduction>1</mechanicalReduction>
      <hardwareInterface>hardware_interface/EffortJointInterface</hardwareInterface>
    </actuator>
  </transmission>

  <transmission name="right_arm_trans1">
    <type>transmission_interface/SimpleTransmission</type>
    <joint name="right_arm_joint1">
      <hardwareInterface>hardware_interface/EffortJointInterface</hardwareInterface>
    </joint>
    <actuator name="foo_motor10">
      <mechanicalReduction>1</mechanicalReduction>
      <hardwareInterface>hardware_interface/EffortJointInterface</hardwareInterface>
    </actuator>
  </transmission>


<transmission name="left_arm_trans3">
    <type>transmission_interface/SimpleTransmission</type>
    <joint name="left_arm_joint3">
      <hardwareInterface>hardware_interface/EffortJointInterface</hardwareInterface>
    </joint>
    <actuator name="foo_motor11">
      <mechanicalReduction>1</mechanicalReduction>
      <hardwareInterface>hardware_interface/EffortJointInterface</hardwareInterface>
    </actuator>
  </transmission>

  <transmission name="right_arm_trans3">
    <type>transmission_interface/SimpleTransmission</type>
    <joint name="right_arm_joint3">
      <hardwareInterface>hardware_interface/EffortJointInterface</hardwareInterface>
    </joint>
    <actuator name="foo_motor12">
      <mechanicalReduction>1</mechanicalReduction>
      <hardwareInterface>hardware_interface/EffortJointInterface</hardwareInterface>
    </actuator>
  </transmission>


<transmission name="left_arm_trans5">
    <type>transmission_interface/SimpleTransmission</type>
    <joint name="left_arm_joint5">
      <hardwareInterface>hardware_interface/EffortJointInterface</hardwareInterface>
    </joint>
    <actuator name="foo_motor13">
      <mechanicalReduction>1</mechanicalReduction>
      <hardwareInterface>hardware_interface/EffortJointInterface</hardwareInterface>
    </actuator>
  </transmission>

  <transmission name="right_arm_trans5">
    <type>transmission_interface/SimpleTransmission</type>
    <joint name="right_arm_joint5">
      <hardwareInterface>hardware_interface/EffortJointInterface</hardwareInterface>
    </joint>
    <actuator name="foo_motor14">
      <mechanicalReduction>1</mechanicalReduction>
      <hardwareInterface>hardware_interface/EffortJointInterface</hardwareInterface>
    </actuator>
  </transmission>
</robot>
